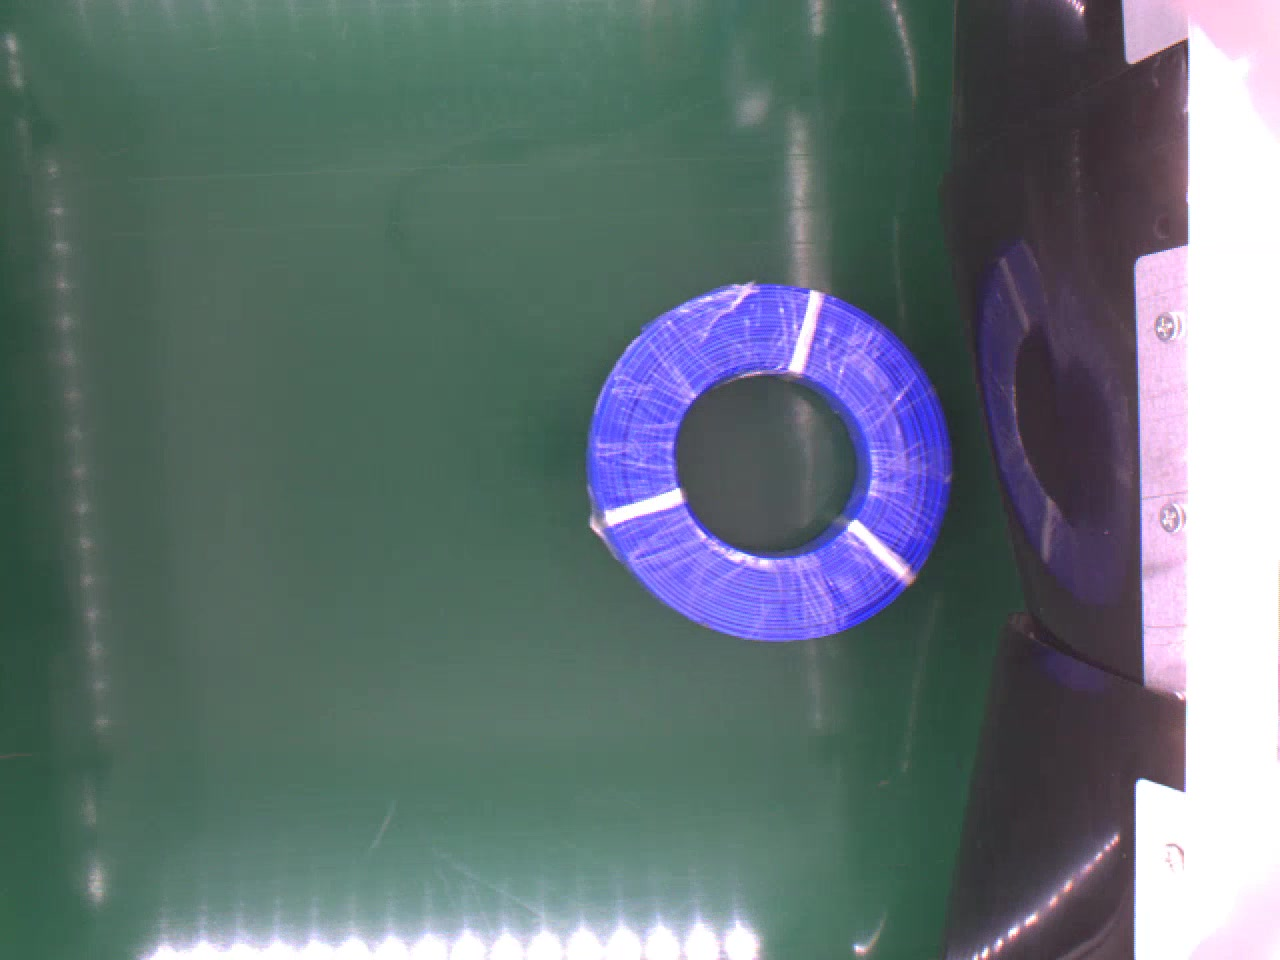blue: (577, 270, 959, 644)
